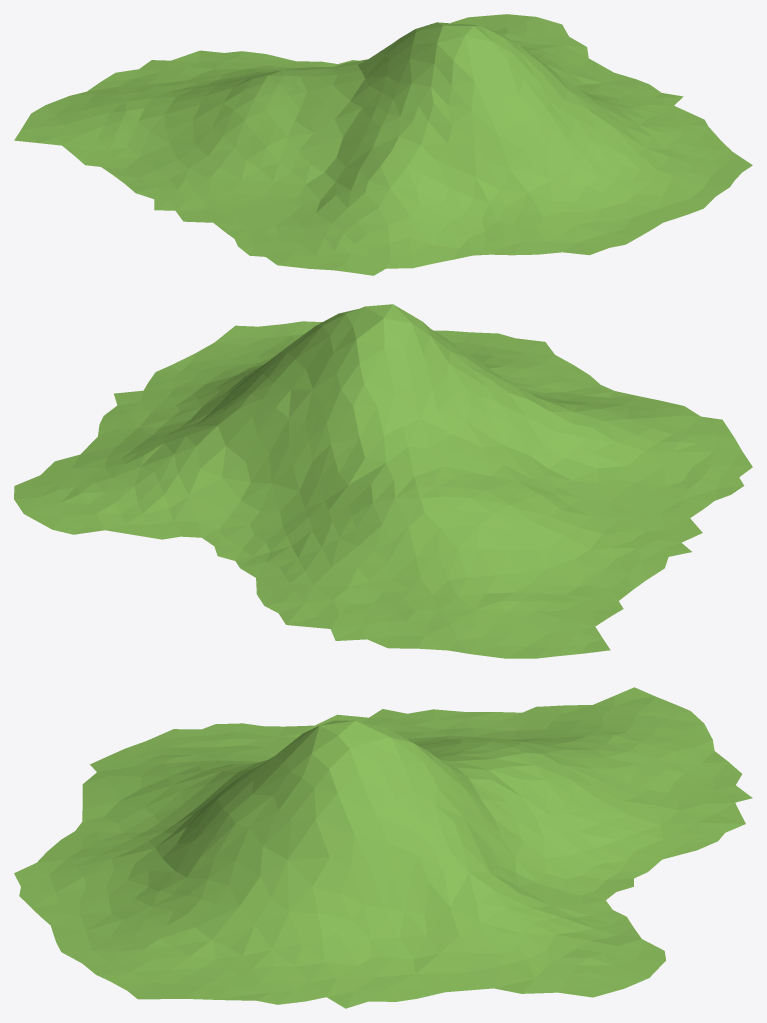
File: MT_Mountain_L_a_25.fbx
3 views of the same model, one above another, from view 1: azimuth 30°, elevation 25°; view 2: azimuth 150°, elevation 25°; view 3: azimuth 270°, elevation 25° (orthographic). The views are drawn at different scales.
Visible parts, largest first — view 1: MT_Mountain_L_a_25; view 2: MT_Mountain_L_a_25; view 3: MT_Mountain_L_a_25.
Part boxes in pixels (x1,y1,x2,y2): MT_Mountain_L_a_25: (14,14,752,275); MT_Mountain_L_a_25: (14,304,752,658); MT_Mountain_L_a_25: (14,687,752,1008).
Size of the model in its own units: 8468 by 1870 by 8267.
